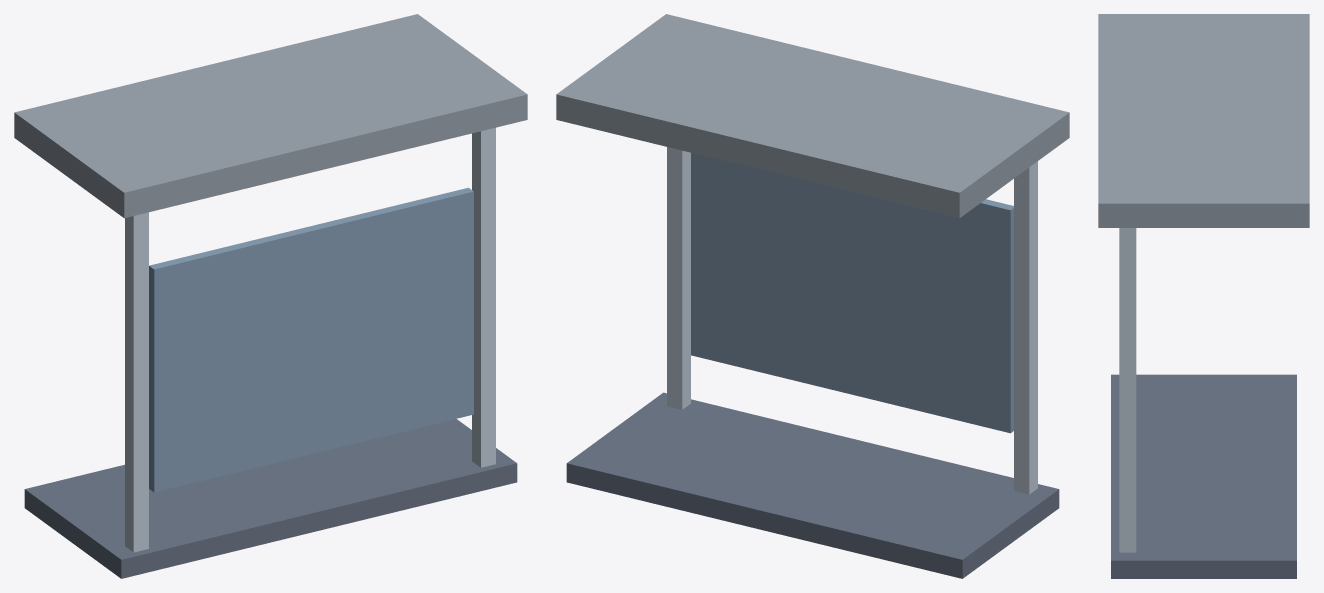
File: parada_bus.glb
The picture shows the model from 3 angles, left to right: view 1: azimuth 30°, elevation 25°; view 2: azimuth 150°, elevation 25°; view 3: azimuth 270°, elevation 25°; orthographic projection. The views are drawn at different scales.
Parts seen in each view (by area): view 1: PosterGlass_5, ShelterRoof_4, BusStopBase_1, Pole_2, Pole_3; view 2: PosterGlass_5, ShelterRoof_4, BusStopBase_1, Pole_2, Pole_3; view 3: ShelterRoof_4, BusStopBase_1, Pole_3.
Part boxes in pixels (left/top/right/bottom): PosterGlass_5: left=149, top=187, right=473, bottom=492; ShelterRoof_4: left=14, top=14, right=527, bottom=218; BusStopBase_1: left=24, top=419, right=517, bottom=578; Pole_2: left=125, top=212, right=148, bottom=552; Pole_3: left=472, top=127, right=495, bottom=467; PosterGlass_5: left=691, top=153, right=1013, bottom=433; ShelterRoof_4: left=556, top=14, right=1069, bottom=218; BusStopBase_1: left=566, top=392, right=1059, bottom=578; Pole_2: left=1014, top=161, right=1037, bottom=494; Pole_3: left=667, top=147, right=690, bottom=409; ShelterRoof_4: left=1098, top=14, right=1309, bottom=227; BusStopBase_1: left=1111, top=374, right=1296, bottom=578; Pole_3: left=1119, top=228, right=1136, bottom=552.
Bounding box in the file's own units: 2.65 × 2.46 × 1.25.
